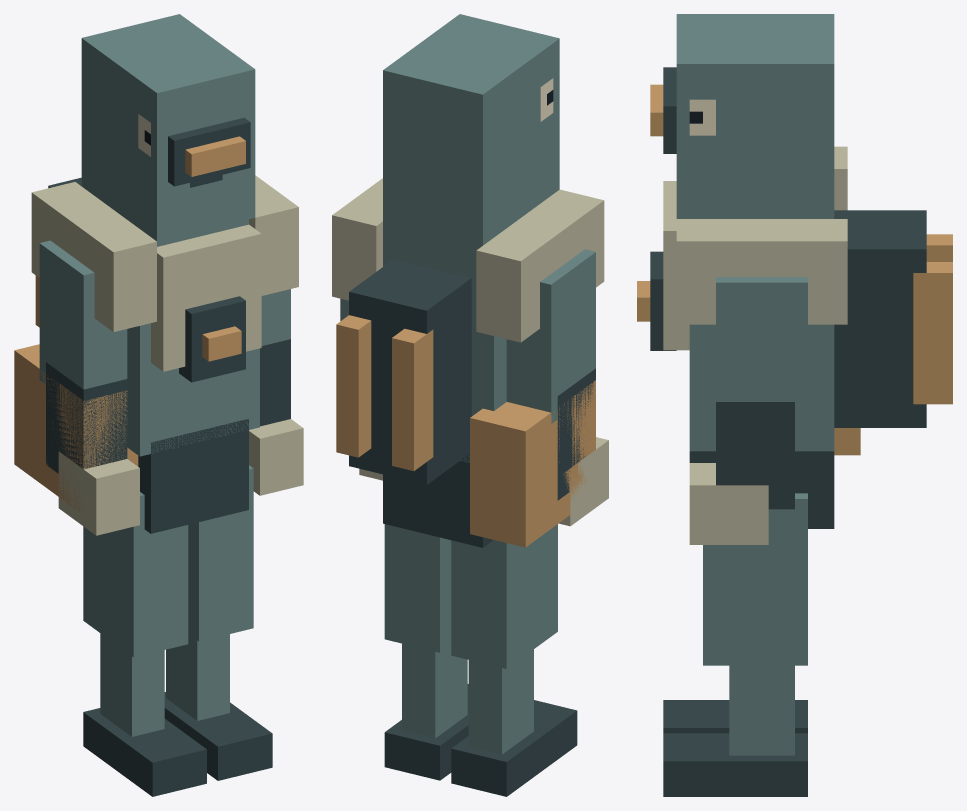
Rendered from custodian_inorganic.glb.
3 renders of one model, left to right at view 1: azimuth 30°, elevation 25°; view 2: azimuth 150°, elevation 25°; view 3: azimuth 270°, elevation 25°, orthographic. The views are drawn at different scales.
Visible parts, largest first — view 1: custodian_inorganic/torso, custodian_inorganic/head, custodian_inorganic/leg_-1, custodian_inorganic/arm_-1, custodian_inorganic/leg_1, custodian_inorganic/pelvis, custodian_inorganic/tool_satchel, custodian_inorganic/arm_1, custodian_inorganic/chest_panel; view 2: custodian_inorganic/head, custodian_inorganic/service_pack, custodian_inorganic/leg_-1, custodian_inorganic/torso, custodian_inorganic/leg_1, custodian_inorganic/arm_-1, custodian_inorganic/tool_satchel, custodian_inorganic/pelvis; view 3: custodian_inorganic/head, custodian_inorganic/leg_1, custodian_inorganic/torso, custodian_inorganic/arm_1, custodian_inorganic/service_pack, custodian_inorganic/pelvis, custodian_inorganic/leg_-1, custodian_inorganic/chest_panel, custodian_inorganic/tool_satchel.
Boxes of the visible parts, <box> form: custodian_inorganic/torso: <box>31,175,298,456</box>; custodian_inorganic/head: <box>81,14,255,241</box>; custodian_inorganic/leg_-1: <box>83,492,206,796</box>; custodian_inorganic/arm_-1: <box>39,240,139,535</box>; custodian_inorganic/leg_1: <box>164,465,272,780</box>; custodian_inorganic/pelvis: <box>138,419,248,533</box>; custodian_inorganic/tool_satchel: <box>14,344,138,514</box>; custodian_inorganic/arm_1: <box>249,289,303,495</box>; custodian_inorganic/chest_panel: <box>179,296,245,382</box>; custodian_inorganic/head: <box>383,14,559,245</box>; custodian_inorganic/service_pack: <box>336,259,471,484</box>; custodian_inorganic/leg_-1: <box>451,524,577,796</box>; custodian_inorganic/torso: <box>332,178,604,462</box>; custodian_inorganic/leg_1: <box>384,524,468,780</box>; custodian_inorganic/arm_-1: <box>506,249,608,526</box>; custodian_inorganic/tool_satchel: <box>470,380,595,547</box>; custodian_inorganic/pelvis: <box>383,454,493,547</box>; custodian_inorganic/head: <box>650,14,834,218</box>; custodian_inorganic/leg_1: <box>663,493,807,796</box>; custodian_inorganic/torso: <box>663,146,847,451</box>; custodian_inorganic/arm_1: <box>689,277,807,544</box>; custodian_inorganic/service_pack: <box>834,210,952,427</box>; custodian_inorganic/pelvis: <box>689,451,834,528</box>; custodian_inorganic/leg_-1: <box>663,700,807,733</box>; custodian_inorganic/chest_panel: <box>637,251,676,350</box>; custodian_inorganic/tool_satchel: <box>834,428,860,455</box>.
Bounding box in the file's own units: 0.5938 × 1.91 × 0.75.
